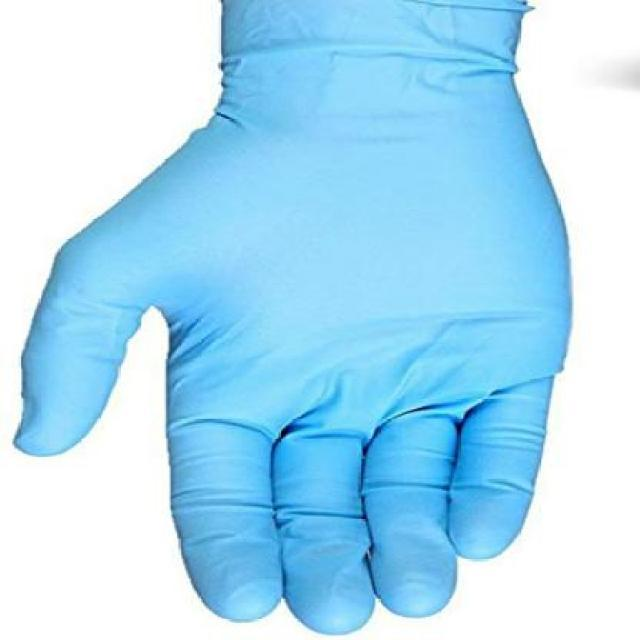gloved_hand: (9, 3, 580, 634)
